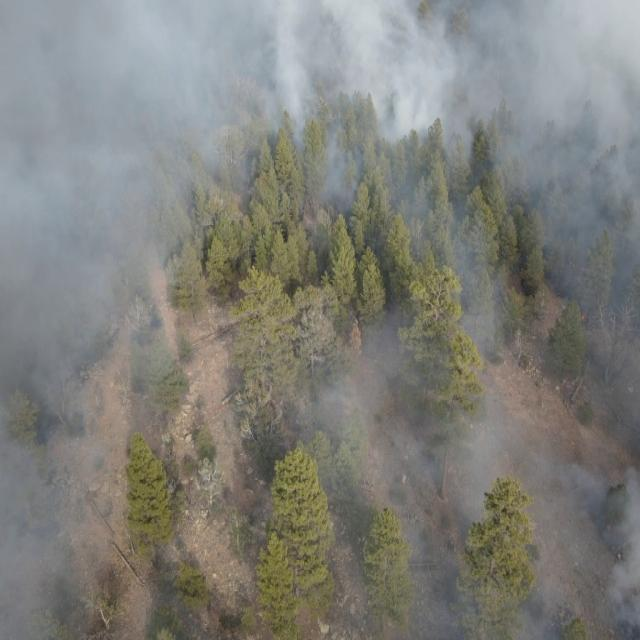smoke: (0, 0, 161, 640), (400, 209, 639, 640), (161, 0, 640, 211), (163, 326, 402, 510)
